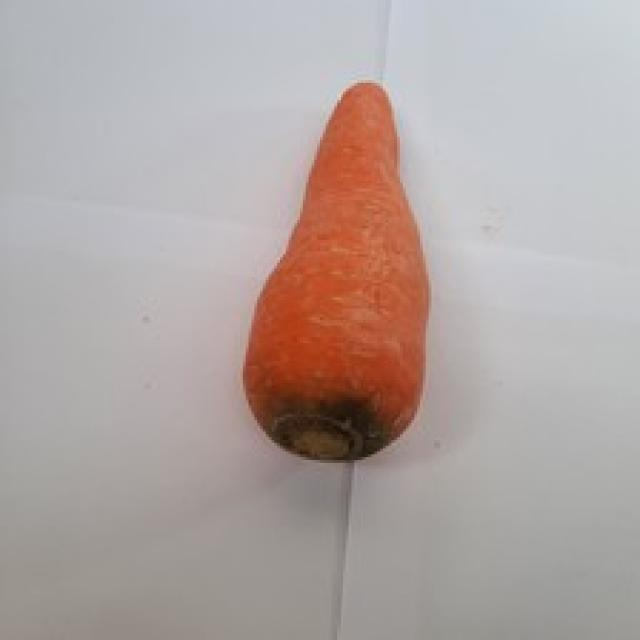Fresh_Carrot: (250, 85, 430, 449)
